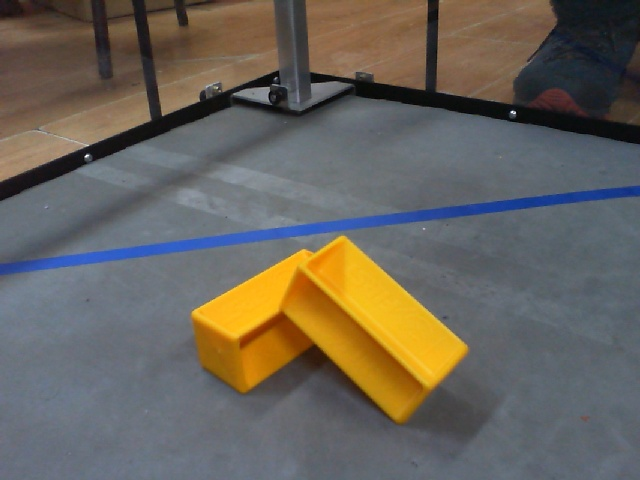YellowSample: (277, 234, 473, 433), (180, 246, 335, 395)
